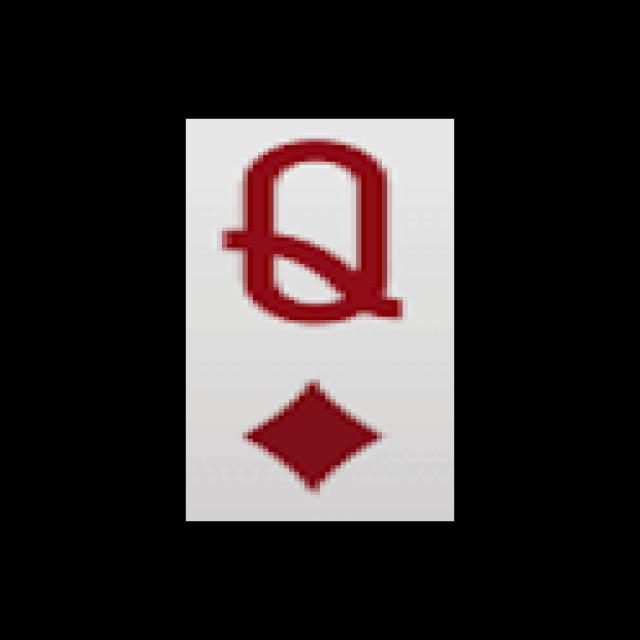QD: (202, 126, 434, 509)
